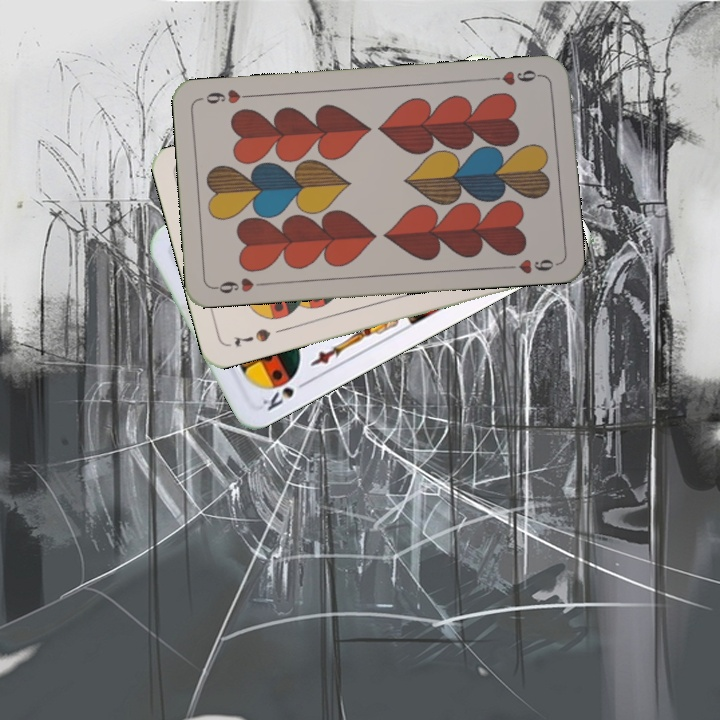H9: (210, 274, 269, 297), (486, 66, 545, 88)
S7: (230, 324, 273, 350)
SK: (258, 376, 312, 414)
